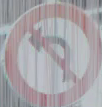Don't turn left: (7, 12, 86, 95)
